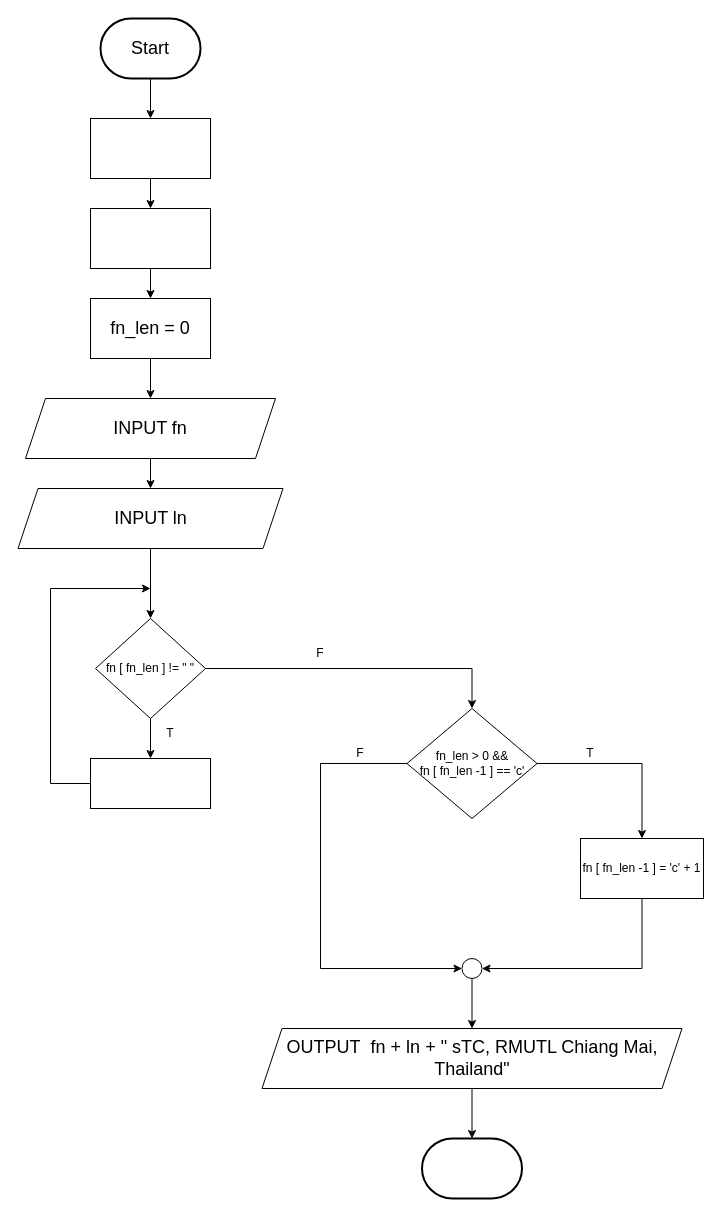
This 721x1216 diagram has some shape labels left out. Here are the shapes that lost their labels. From the top down, the box of each, then its label:
(90, 118, 210, 178): fn = " "
(90, 208, 210, 268): ln = " "
(90, 758, 210, 808): fn_len += 1
(420, 1137, 522, 1199): Stop
